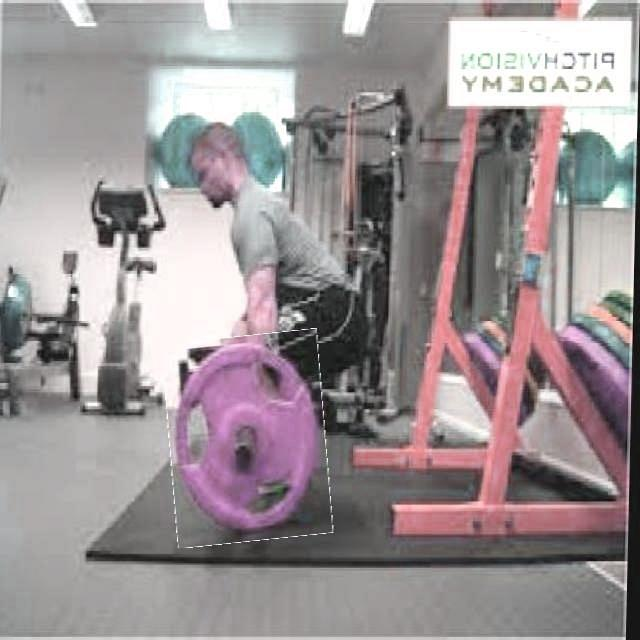barbell: (166, 332, 335, 545)
